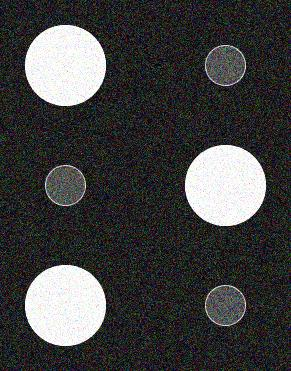O: (18, 18, 274, 354)
